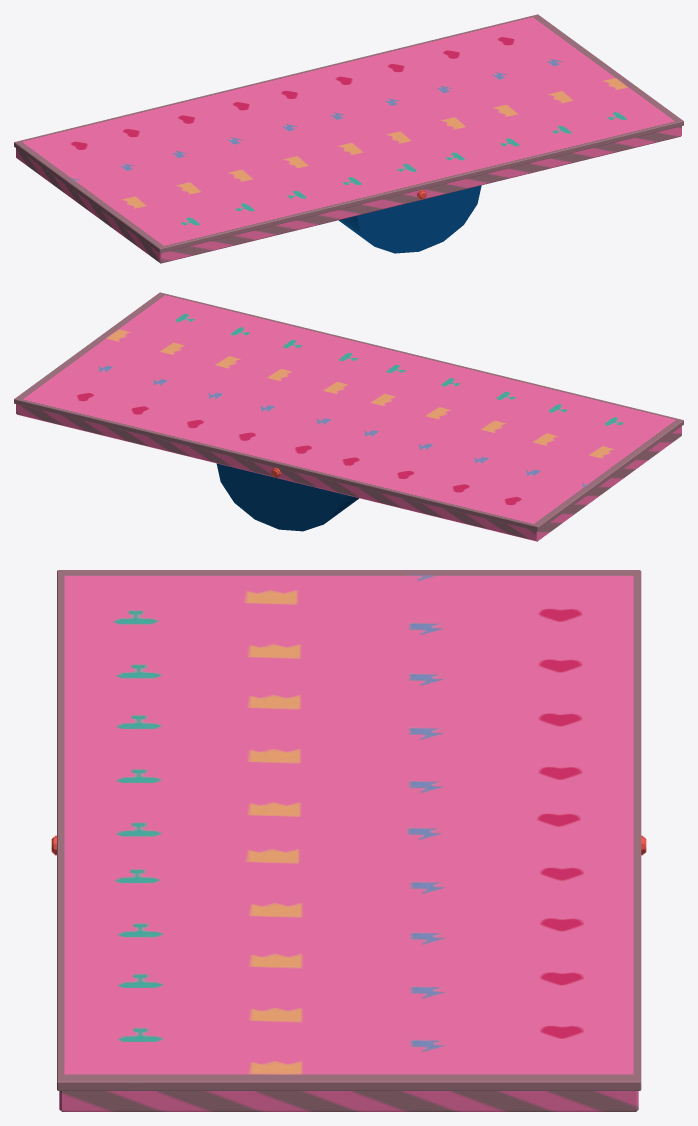
File: PLF0110045.fbx
3 views of the same model, one above another, from view 1: azimuth 30°, elevation 25°; view 2: azimuth 150°, elevation 25°; view 3: azimuth 270°, elevation 25° (orthographic). The views are drawn at different scales.
Visible parts, largest first — view 1: smPLF0110045; view 2: smPLF0110045; view 3: smPLF0110045.
Boxes of the visible parts, box(x1,y1,x2,y2) form: smPLF0110045: box(14, 14, 683, 263); smPLF0110045: box(14, 292, 683, 541); smPLF0110045: box(51, 570, 646, 1111).
Size of the model in its own units: 642 by 80.69 by 315.
1 material, 1 textured.
